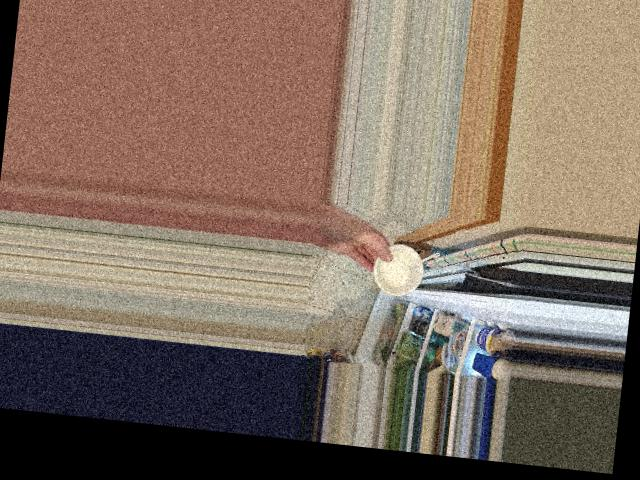cotage: (377, 245, 425, 295)
